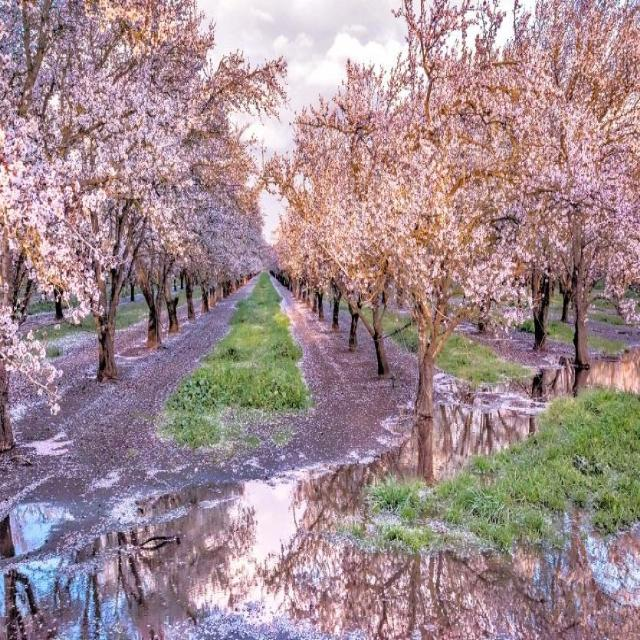row: (6, 272, 431, 640)
